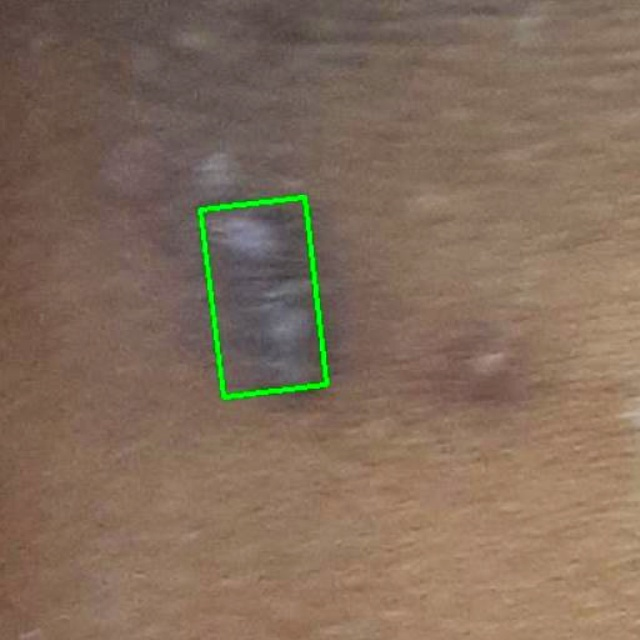Scabies: (201, 197, 327, 397)
